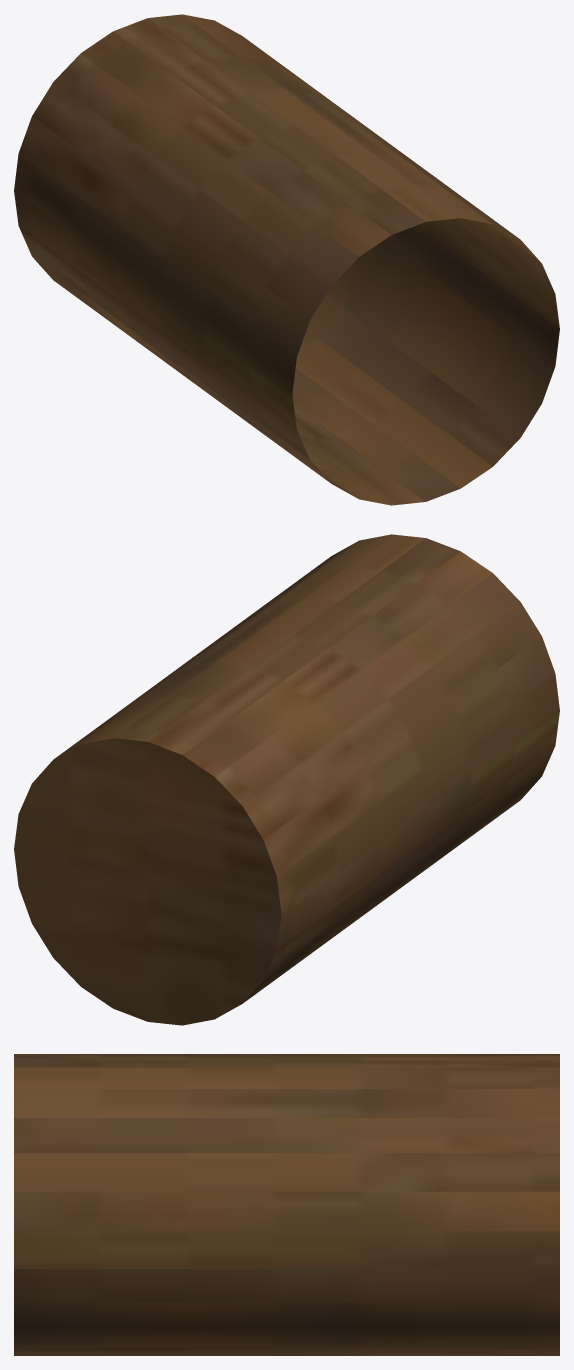
Rendered from original-8.obj.
3 renders of one model, top to bottom at view 1: azimuth 30°, elevation 25°; view 2: azimuth 150°, elevation 25°; view 3: azimuth 270°, elevation 25°, orthographic.
Visible parts, largest first — view 1: #ID56; view 2: #ID56; view 3: #ID56.
Part boxes in pixels (x1,y1,x2,y2): #ID56: (14,14,559,505); #ID56: (14,534,559,1025); #ID56: (14,1054,559,1355).
Bounding box in the file's own units: 0.0378 × 0.0378 × 0.0681.
